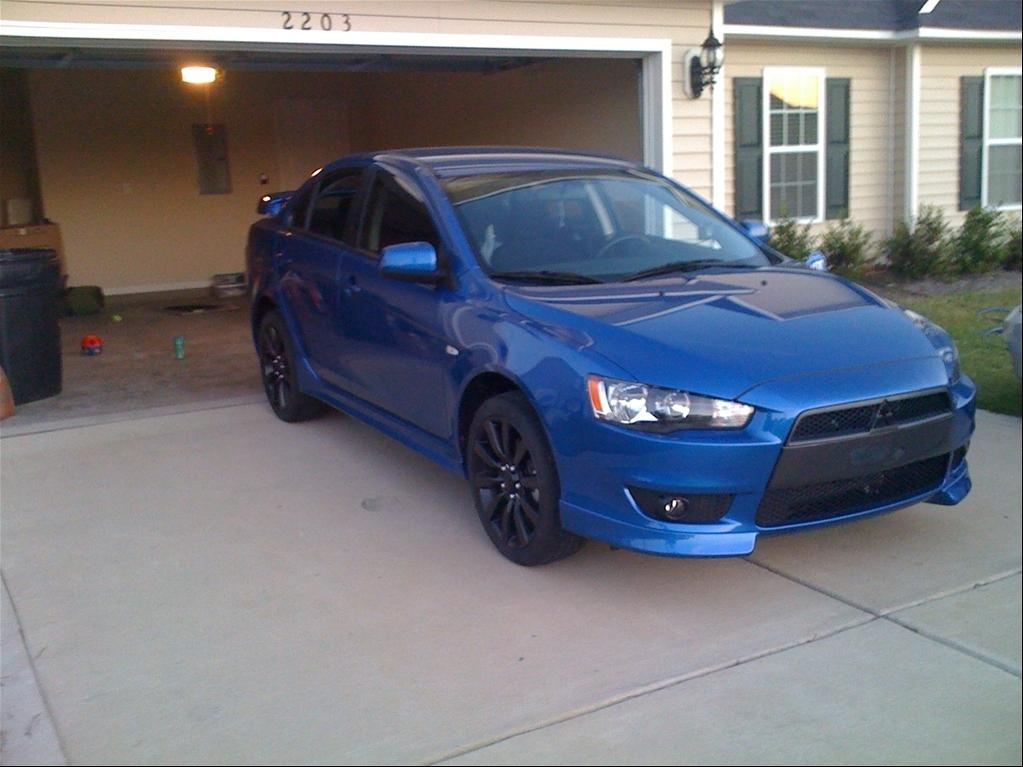Mitsubishi: (865, 389, 914, 444)
